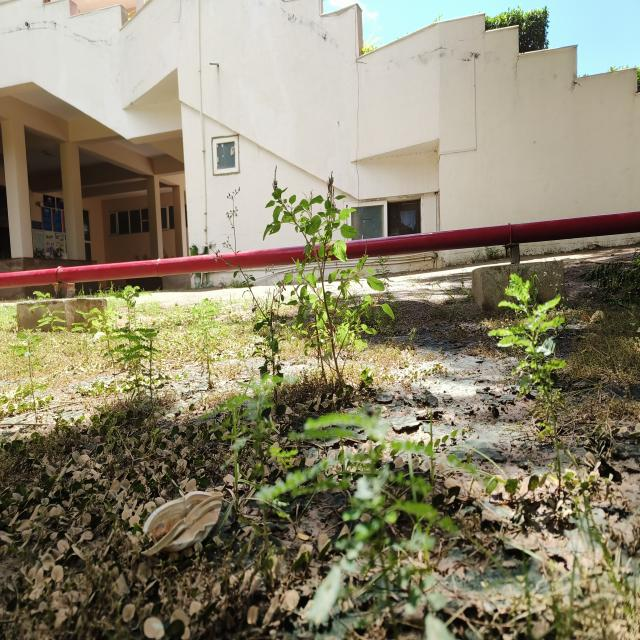weed: (294, 395, 503, 612), (489, 272, 578, 442)
